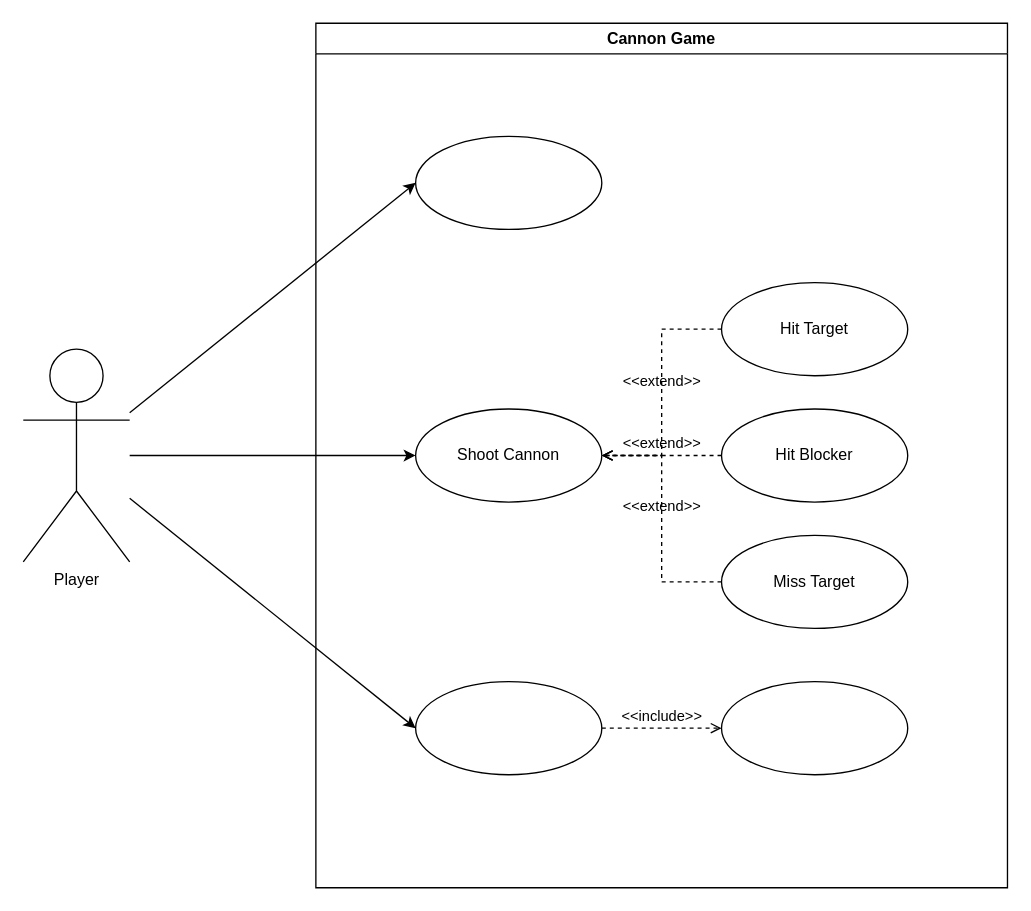
Image size: 1031x911. Some labels were removed from this diagram. Here are the shapes that lost their labels. From the top down, the centre of each, then its label:
At point (508, 182): "Play Game".
At point (508, 727): "Game Ends".
At point (814, 727): "Display Score Screen".
